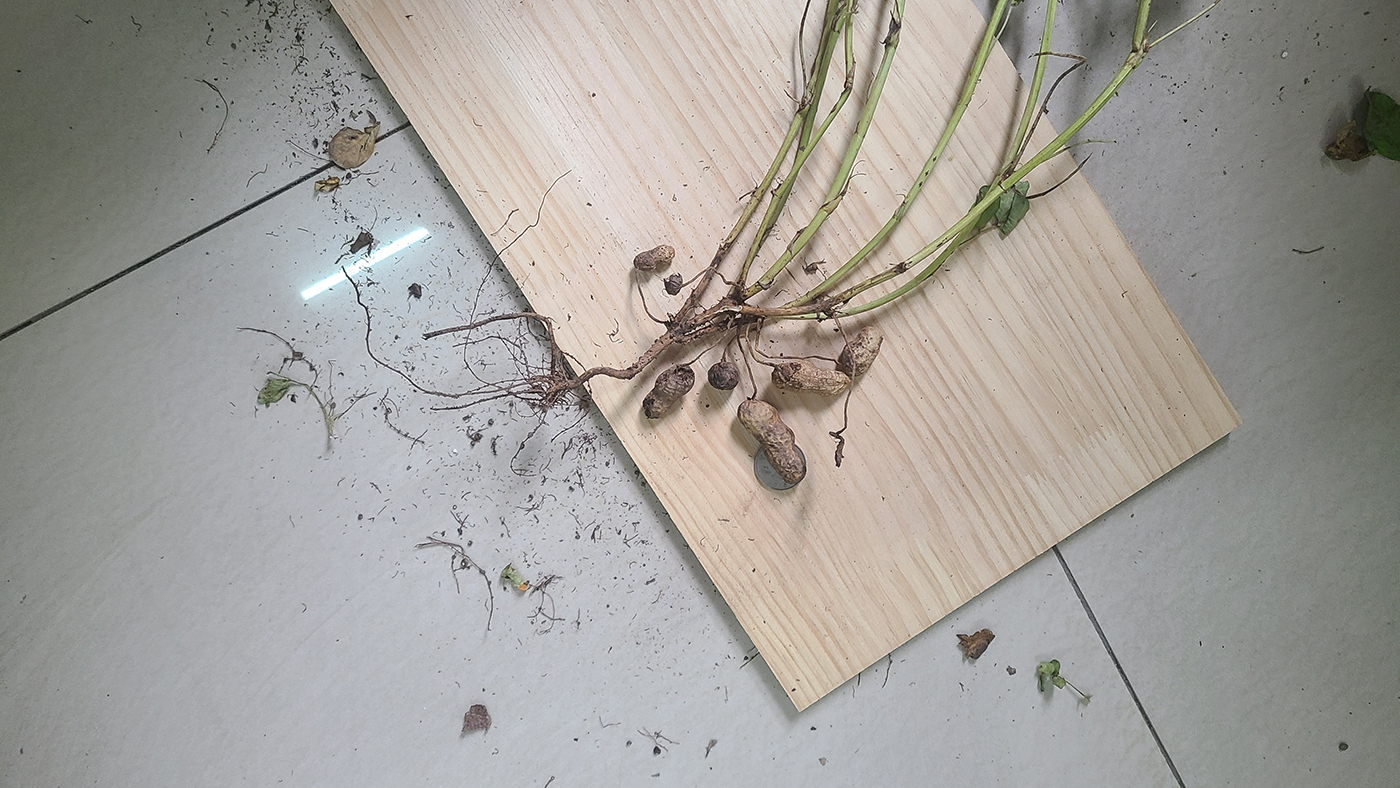h: (840, 326, 882, 376)
l: (738, 397, 805, 484), (642, 364, 695, 421), (771, 362, 848, 394), (632, 244, 675, 271), (708, 362, 740, 391), (664, 274, 684, 296), (835, 441, 845, 468)
